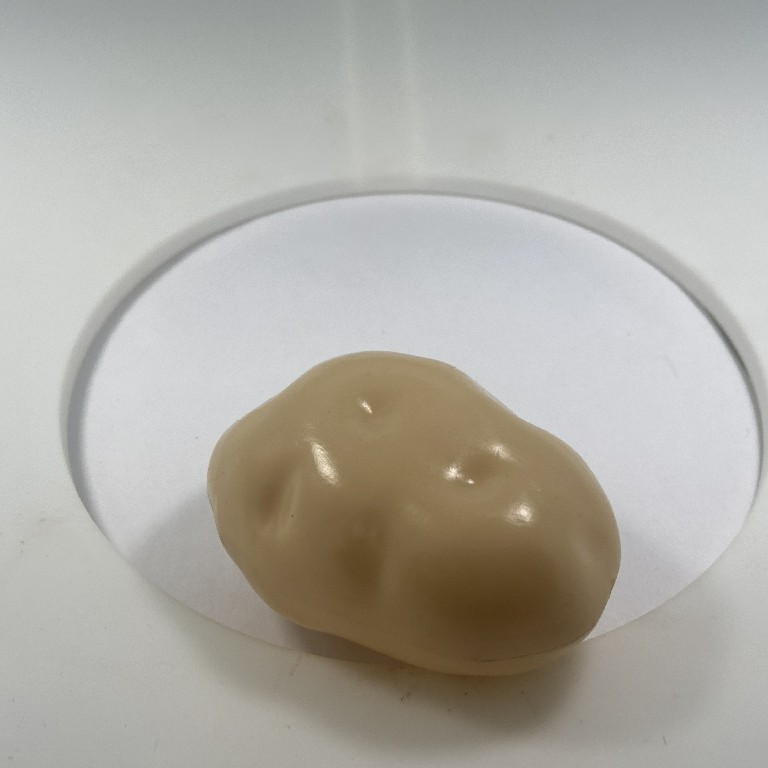fruit_potato: (205, 347, 625, 679)
